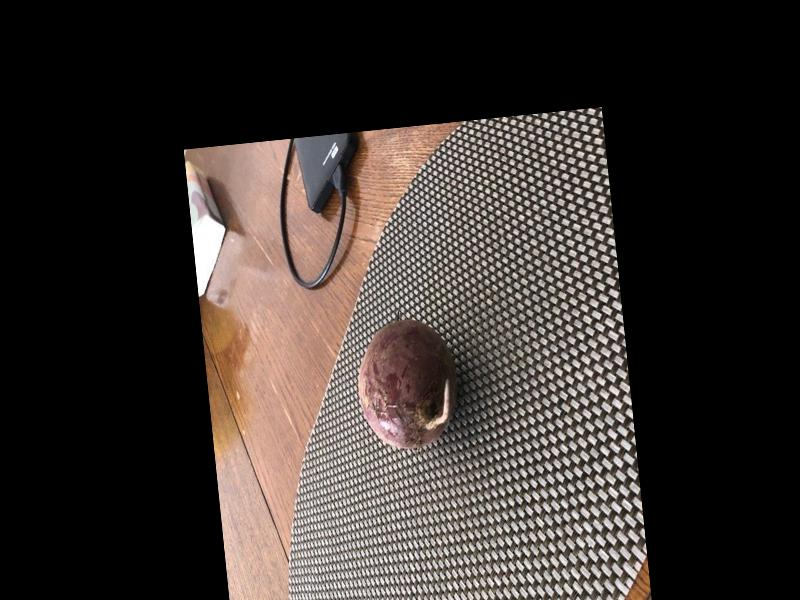Beet: (352, 314, 462, 452)
